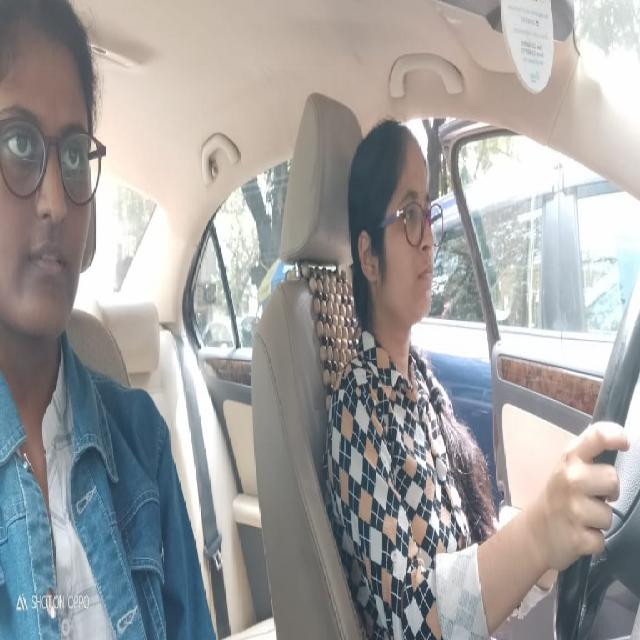person: (0, 3, 91, 341), (352, 141, 437, 322)
